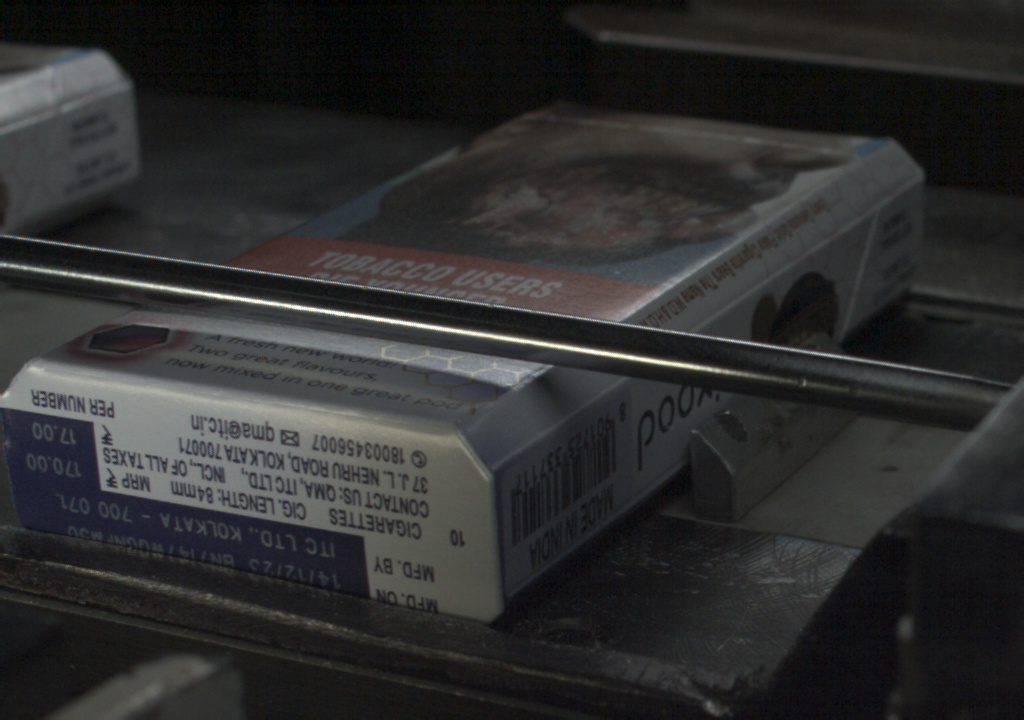g_bottom: (1, 359, 484, 625)
g_label: (13, 489, 373, 603)
g_lmiter: (694, 268, 786, 331), (789, 202, 875, 267), (492, 421, 562, 469), (565, 376, 630, 416)
g_miter: (879, 166, 925, 203)
price: (3, 412, 97, 486)
